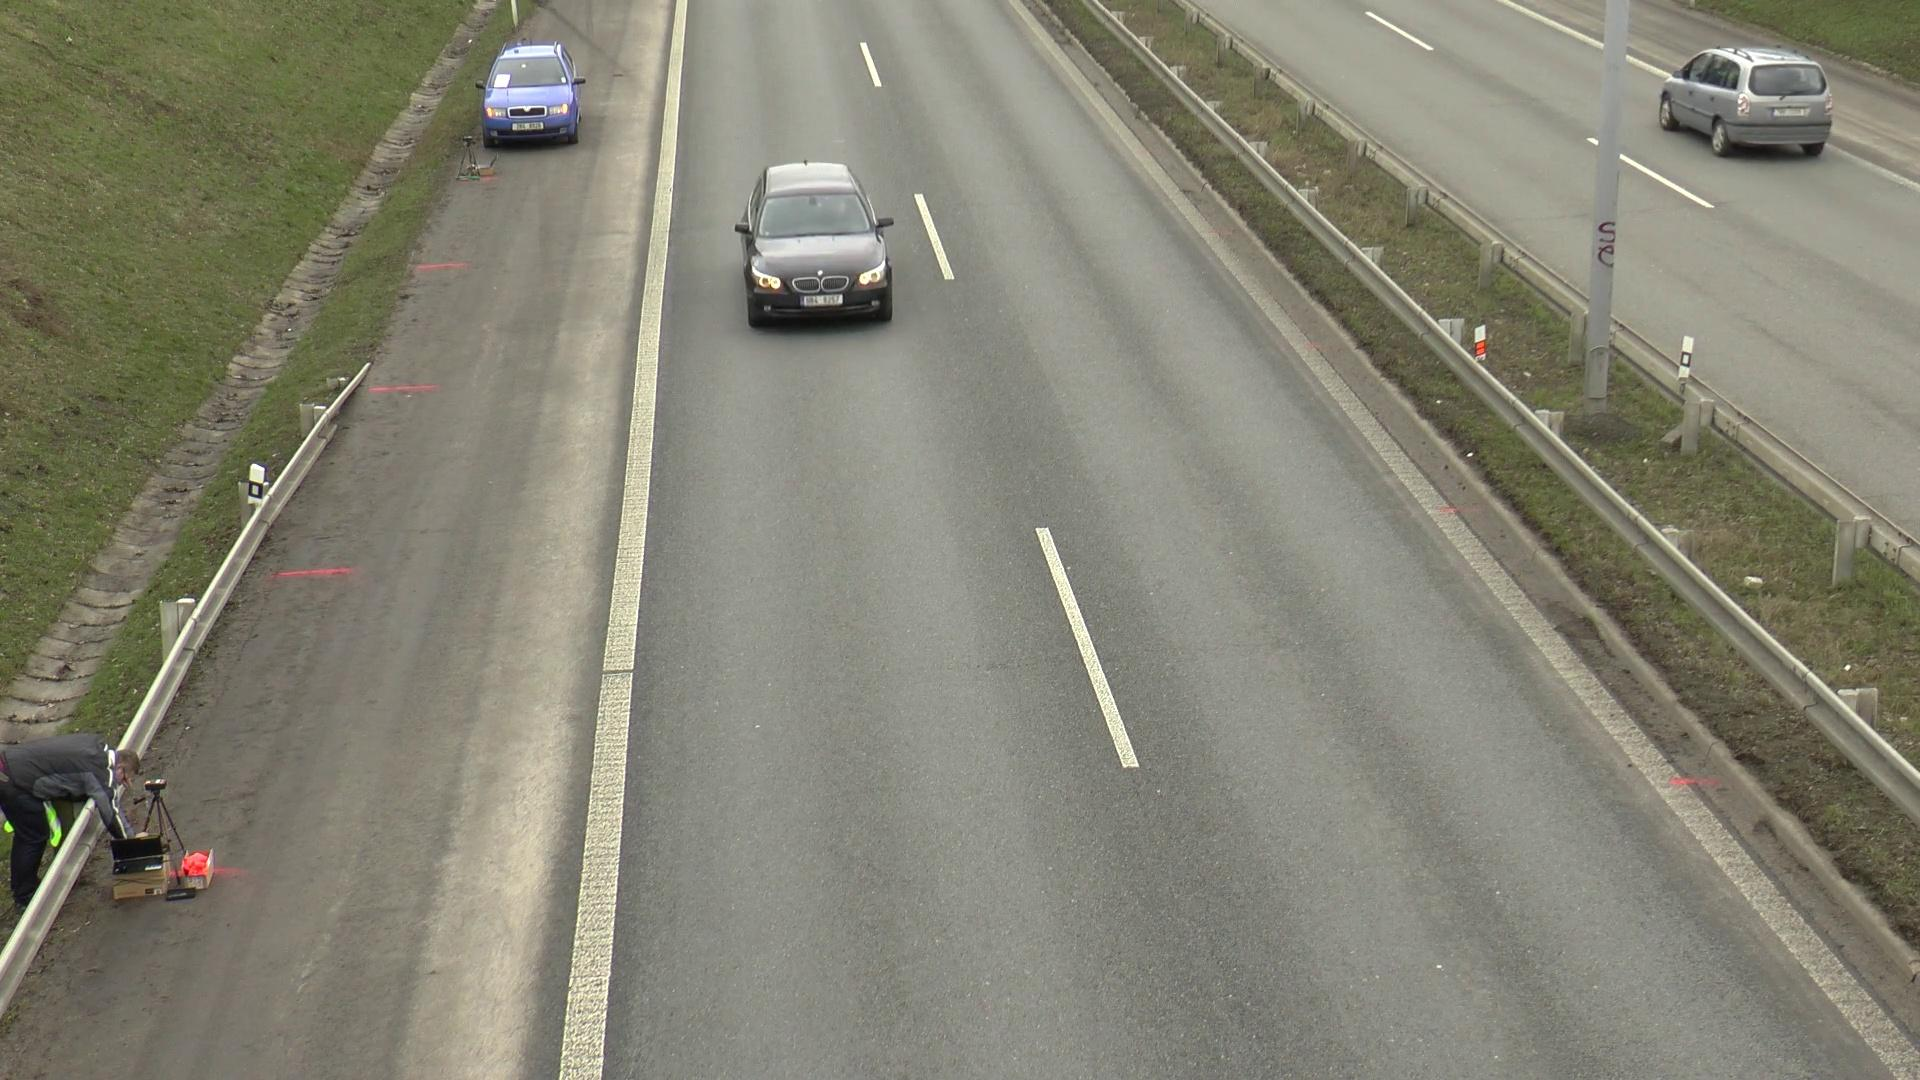Car: (740, 160, 902, 332), (1656, 34, 1843, 164), (480, 36, 584, 179)
Human: (0, 724, 130, 933)
